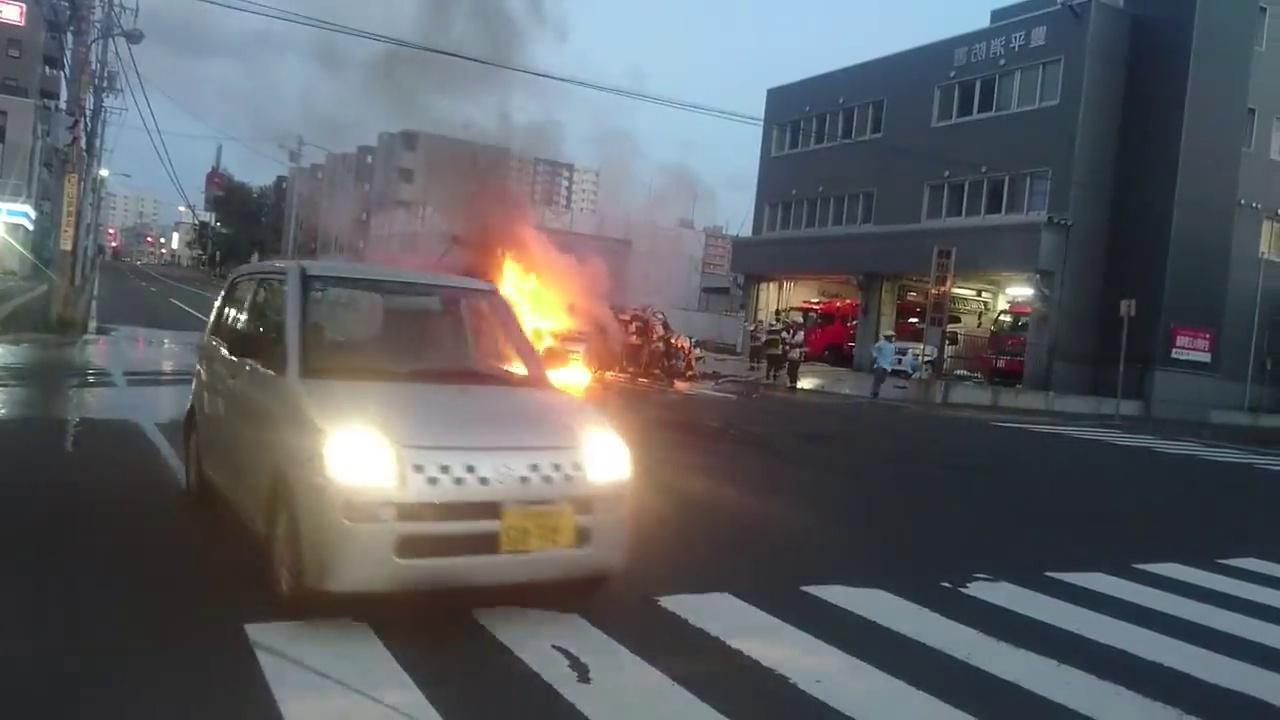Fire: (503, 253, 588, 354), (543, 361, 595, 397), (505, 360, 530, 378)
